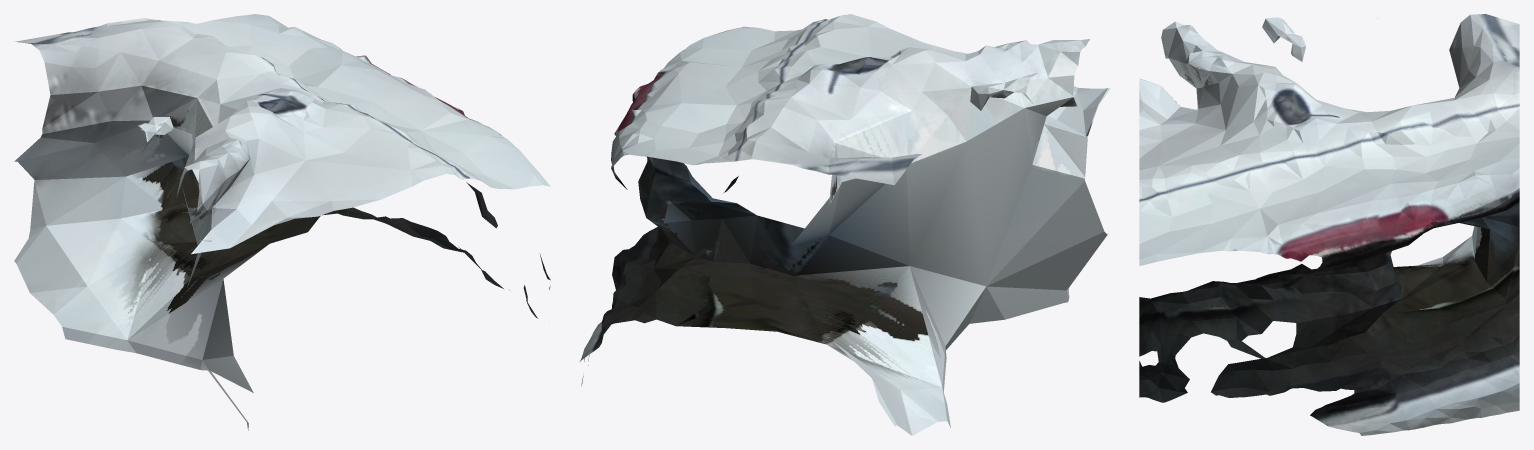
The picture shows the model from 3 angles, left to right: view 1: azimuth 30°, elevation 25°; view 2: azimuth 150°, elevation 25°; view 3: azimuth 270°, elevation 25°; orthographic projection. The views are drawn at different scales.
Bounding box in the file's own units: 0.8374 × 0.6356 × 0.8374.
6 materials, 6 textured.
